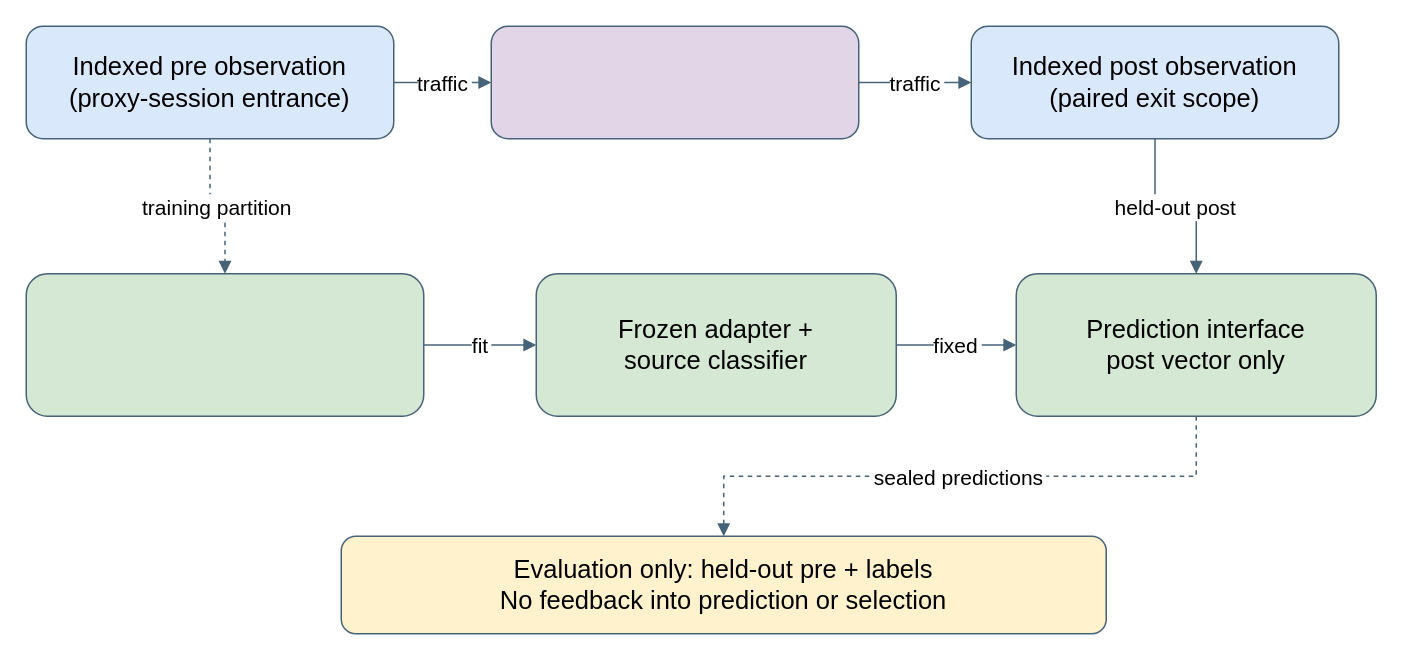
Some shapes in this 1403 by 660 pixel diagram are drawn without their labels. The shapes that lost their labels are listed below. From the top down, each one's box as (x1, y1, x2, y2) in pixels, then its label:
(490, 25, 859, 139): Observed proxy deployment SS or VLESS
(25, 272, 424, 416): Development only Paired statistics + labels Content-disjoint fitting
